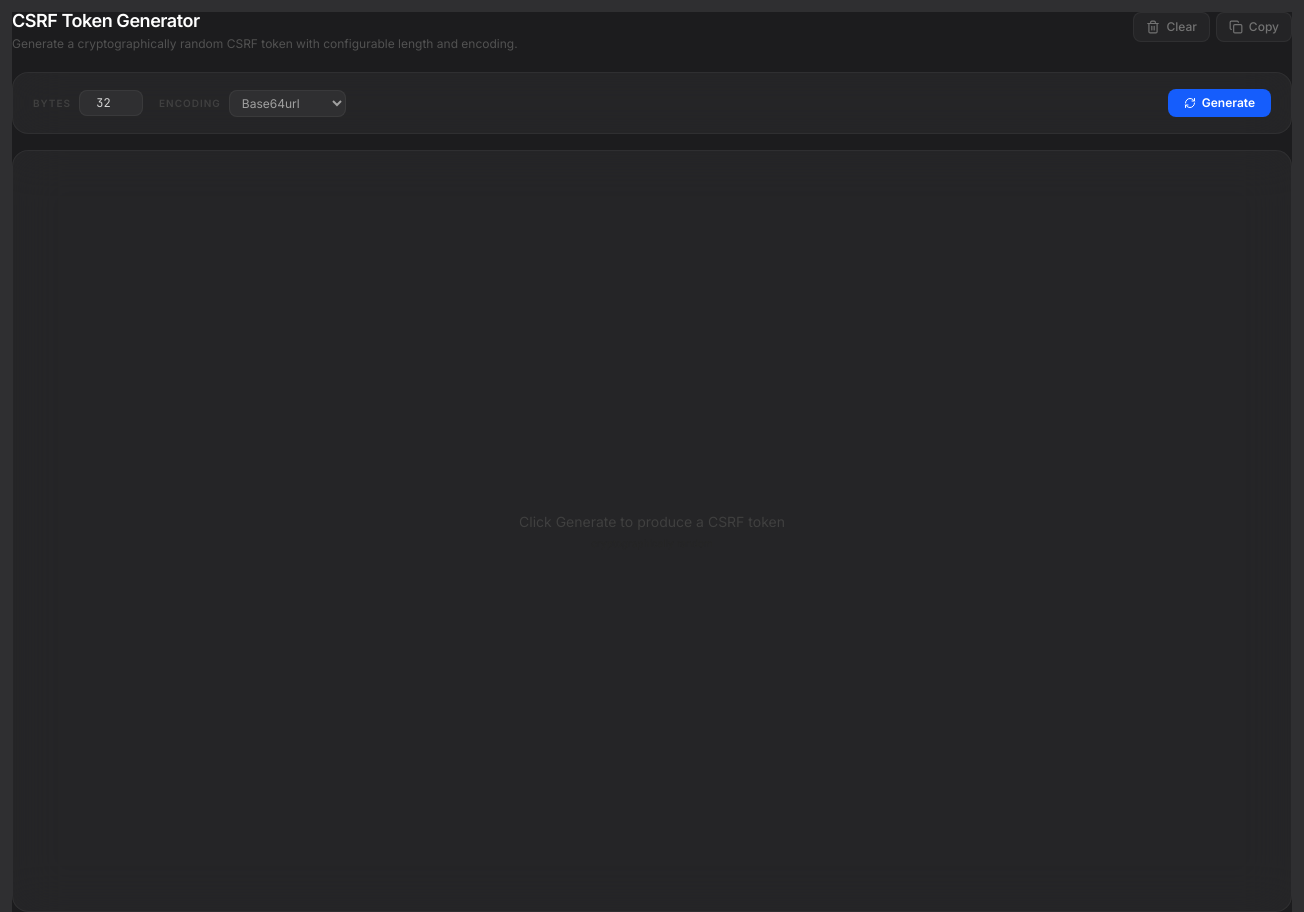
it: CsrfTokenGenerator › shows the entropy in bits
Click the button "Generate" at [1219, 103], box [1168,89,1271,117]
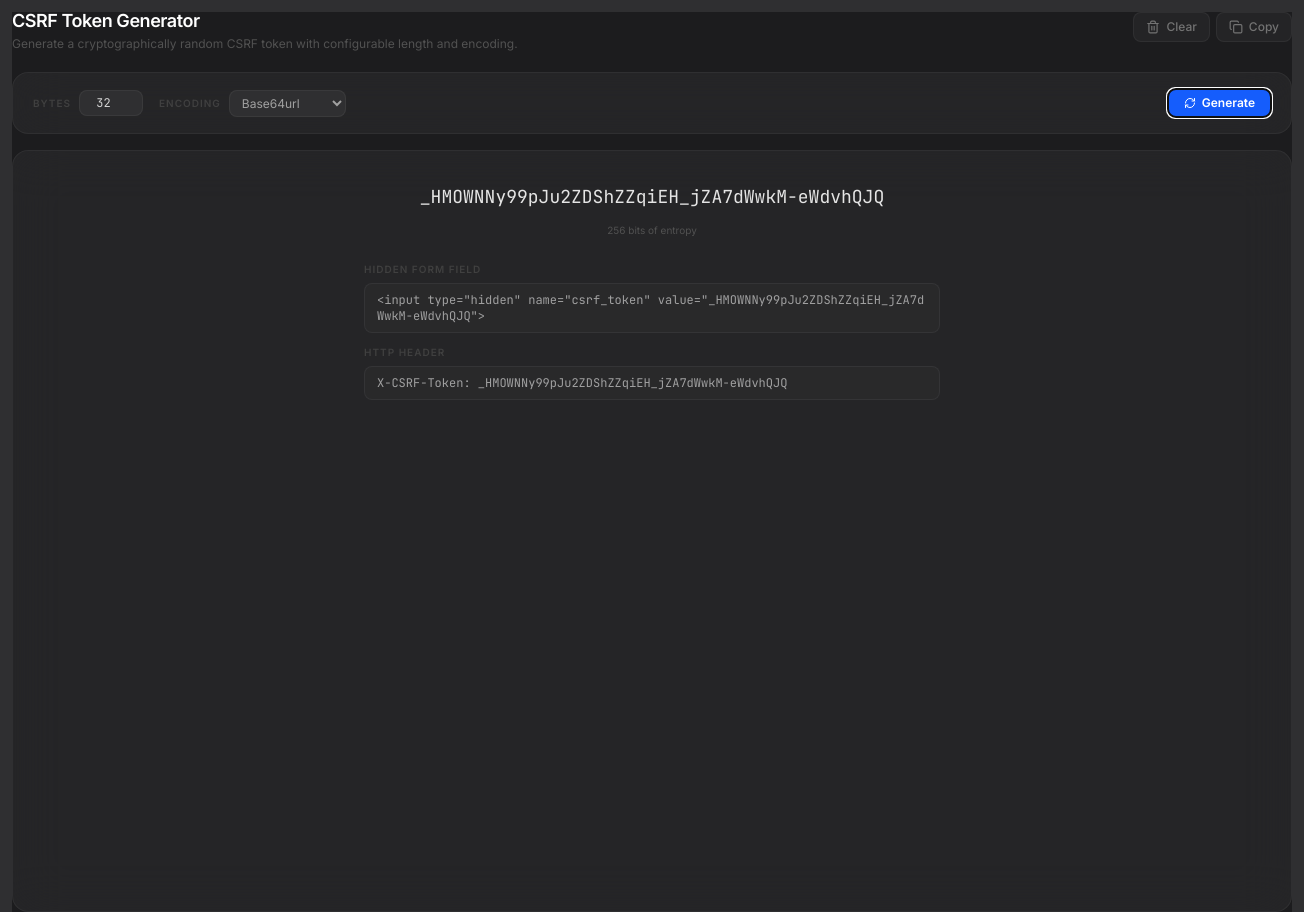
Now the text "256 bits of entropy" is shown, box [607,223,697,238]
